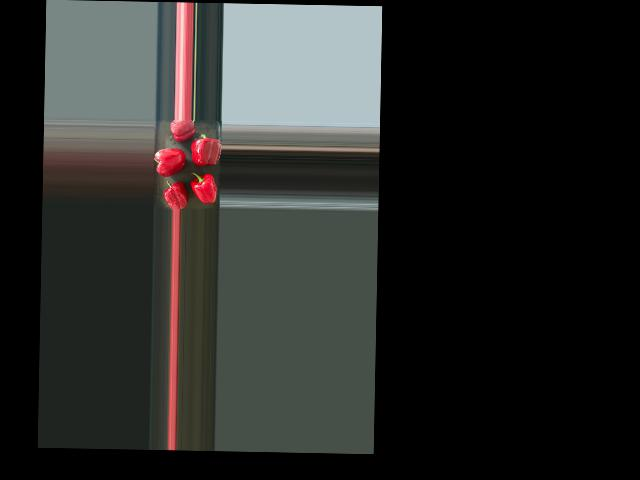bell_pepper: (165, 120, 196, 142)
